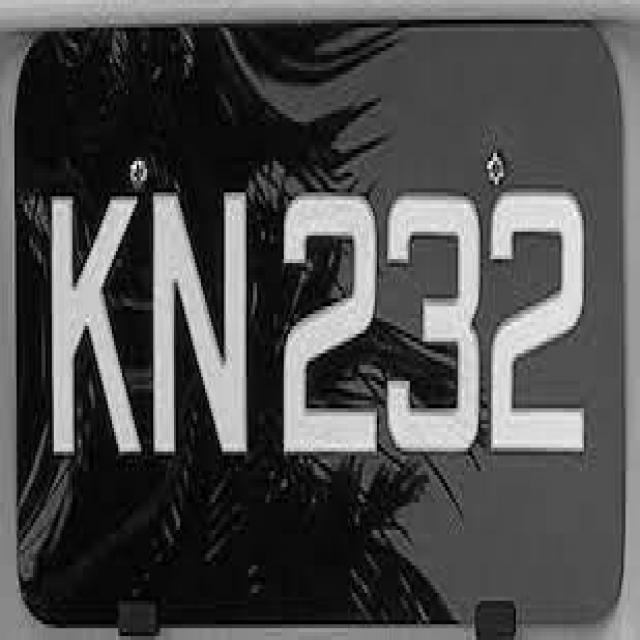License_Plate: (10, 19, 634, 632)
